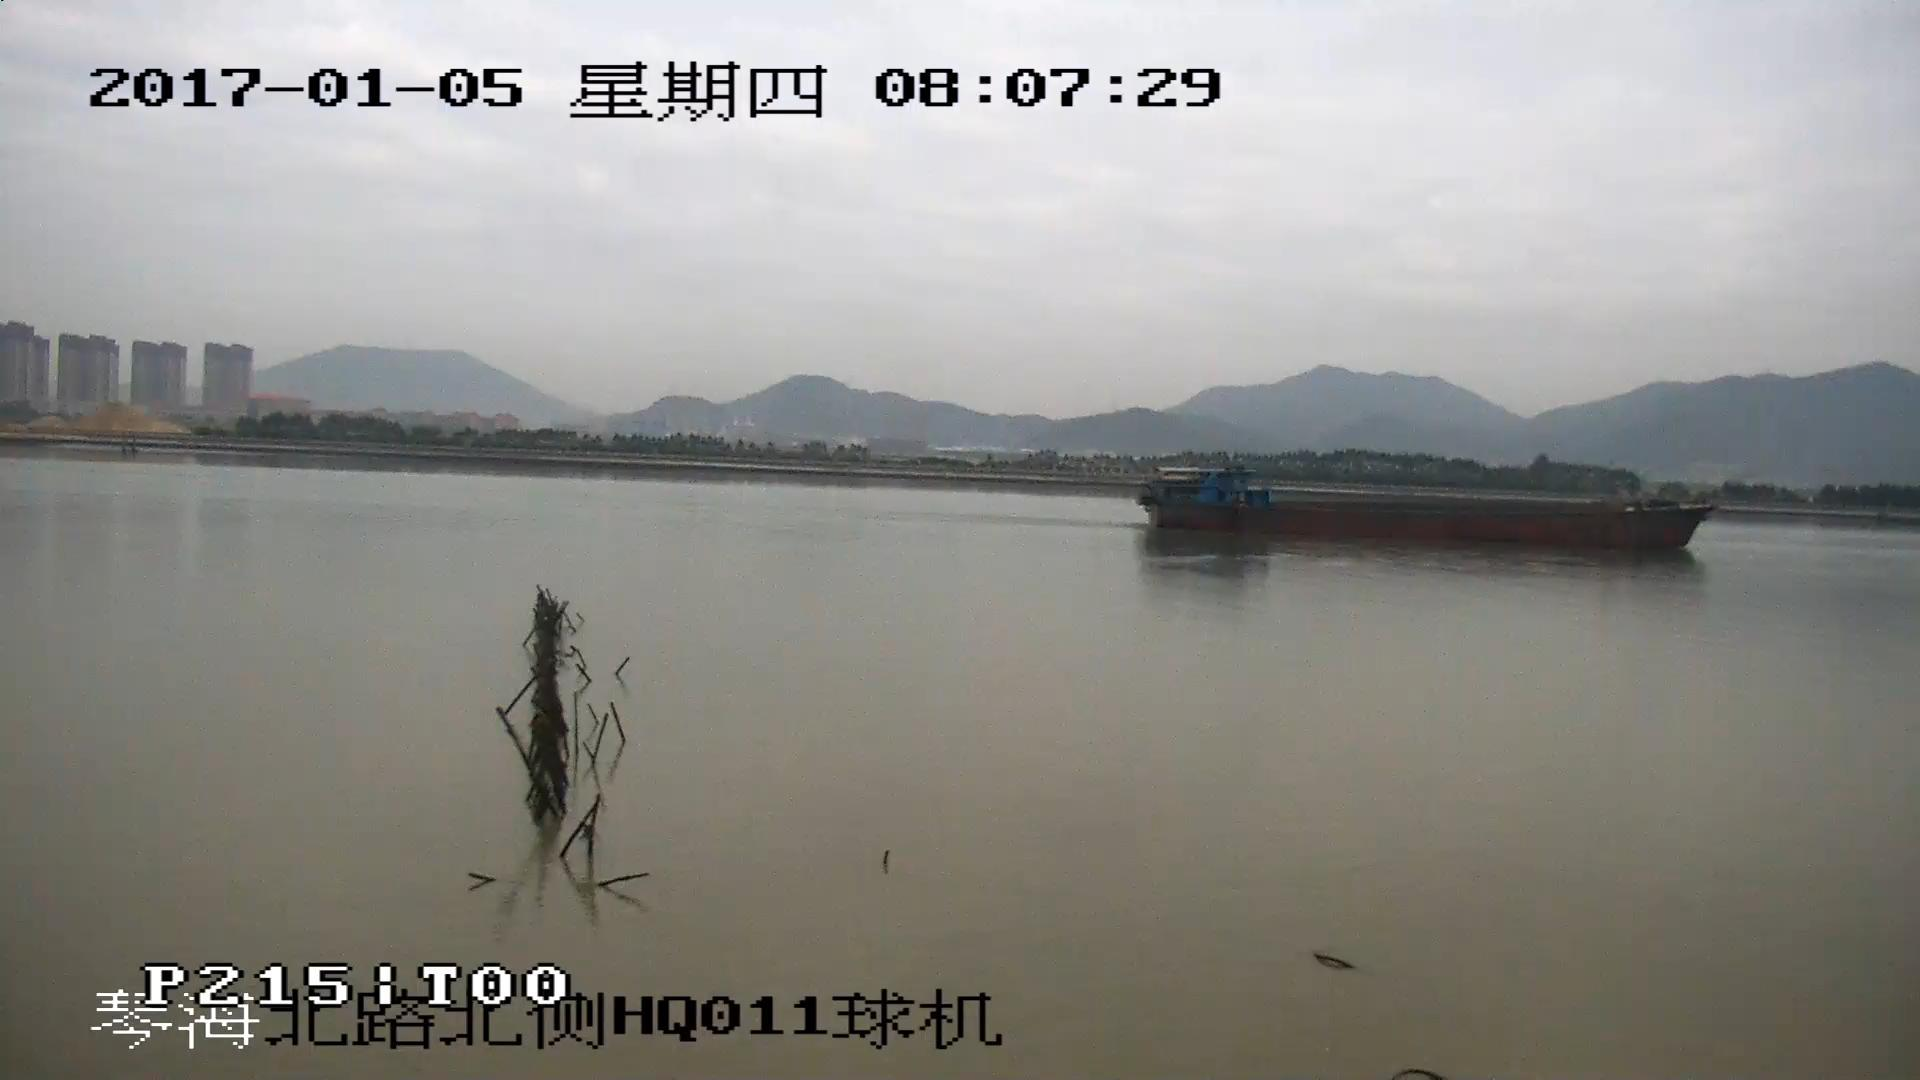Ship: (1129, 467, 1705, 553)
